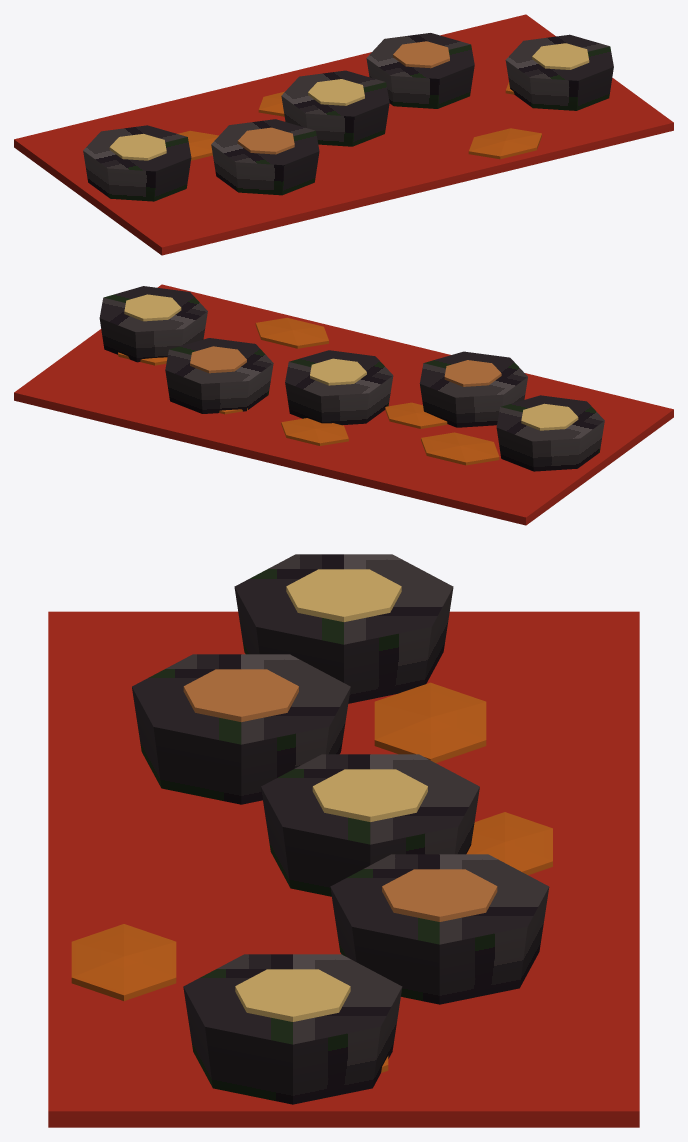
The model's file is warden_stones.glb.
3 views of the same model, one above another, from view 1: azimuth 30°, elevation 25°; view 2: azimuth 150°, elevation 25°; view 3: azimuth 270°, elevation 25° (orthographic). The views are drawn at different scales.
Parts seen in each view (by area): view 1: warden_stones; view 2: warden_stones; view 3: warden_stones.
Part boxes in pixels (x1,y1,x2,y2): warden_stones: (14, 14, 673, 255); warden_stones: (14, 284, 673, 525); warden_stones: (48, 554, 639, 1127).
Bounding box in the file's own units: 4 × 0.32 × 2.
2 materials, 1 textured.
